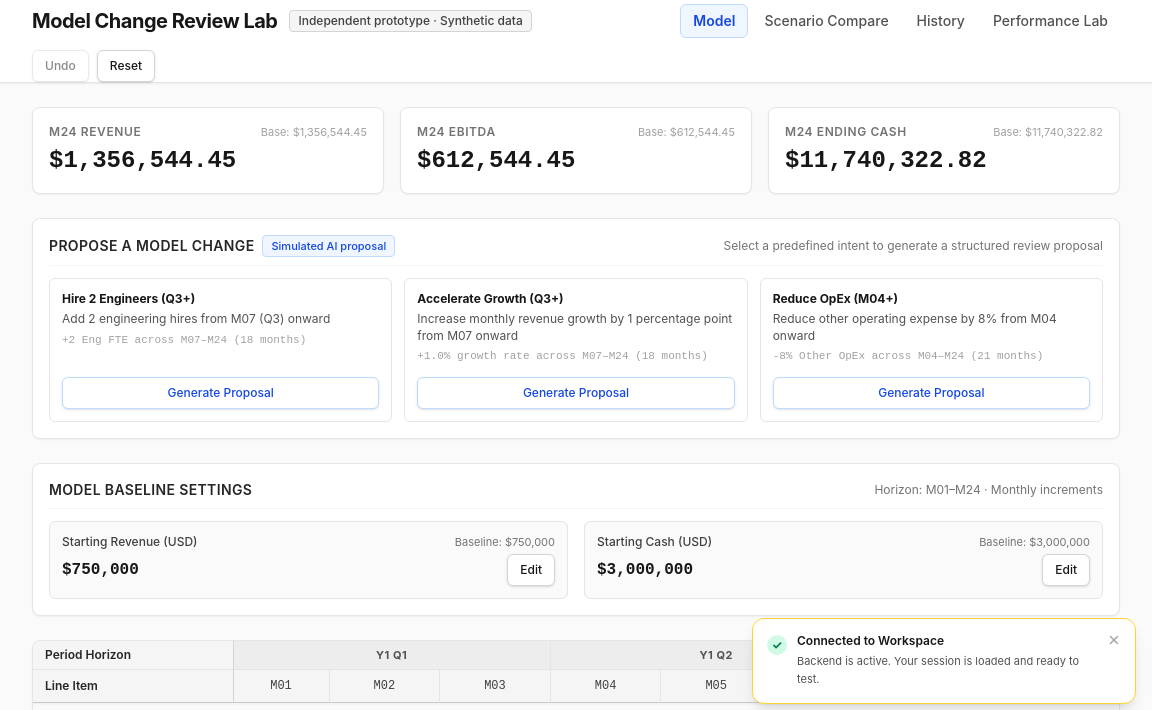
Test case: History, Undo & Reset Lifecycle (T-066 / PRD Tests 41-43 / FR-015, FR-017, FR-018) › renders accessible empty history state when no changes have occurred
The width and height of the screenshot is (1152, 710).
Switch to History tab
Click the button "History" at (941, 21), box left=905, top=5, right=977, bottom=37
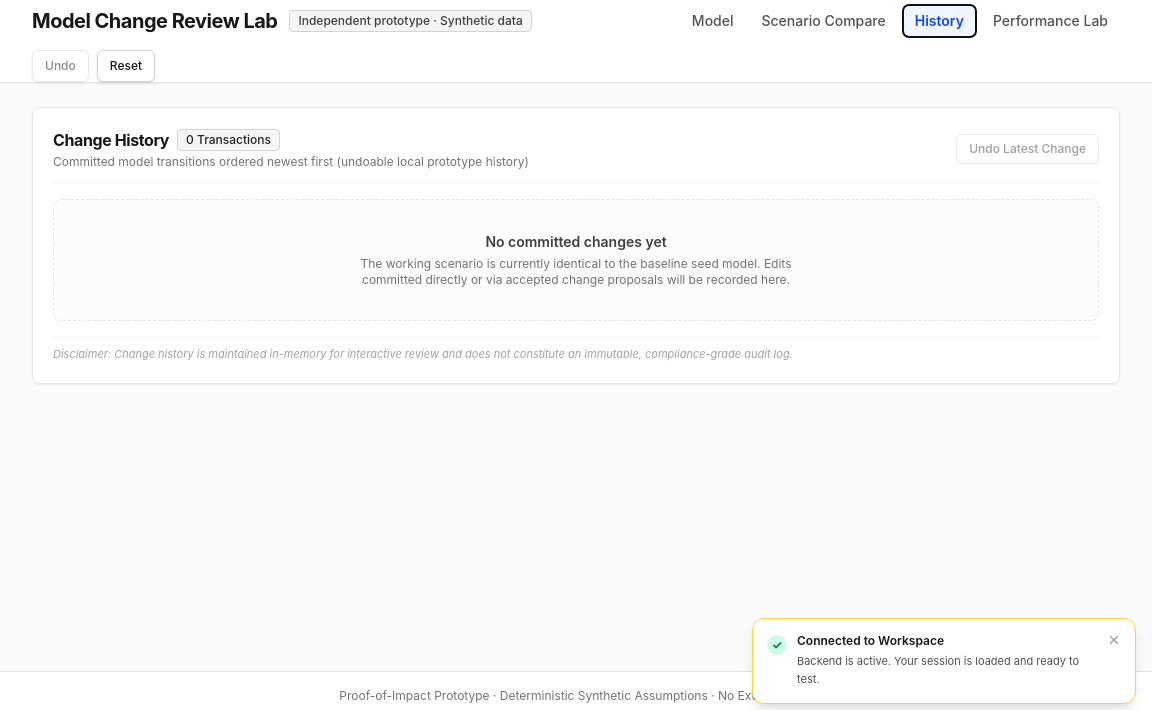
Expected: the element named "Committed Change History" is shown, left=32, top=107, right=1120, bottom=384
Expected: the text "No committed changes yet" is shown, left=485, top=233, right=667, bottom=250
Expected: the text "The working scenario is currently identical to the baseline" is shown, left=360, top=256, right=792, bottom=287
